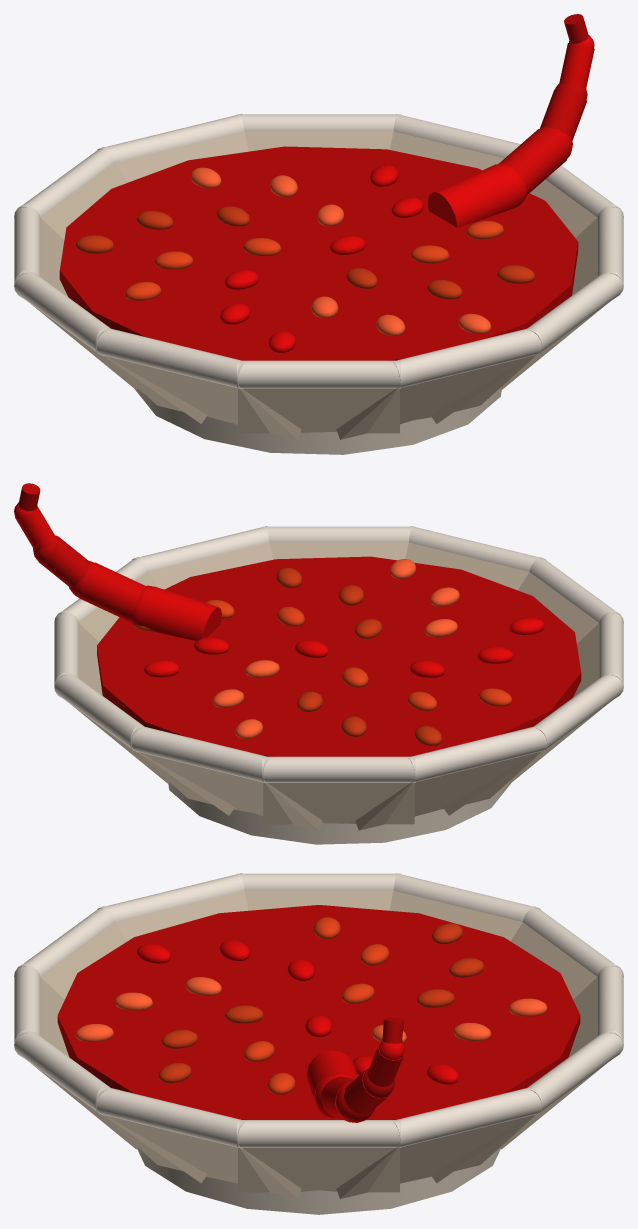
File: CMU3DFoodSoupChiliHotCloud.glb
3 renders of one model, top to bottom at view 1: azimuth 30°, elevation 25°; view 2: azimuth 150°, elevation 25°; view 3: azimuth 270°, elevation 25°, orthographic. The views are drawn at different scales.
Visible parts, largest first — view 1: hot chili liquid surface, closed ceramic basin floor, flared hollow ceramic wall 09, rolled ceramic rim 09, flared hollow ceramic wall 08, flared hollow ceramic wall 10, rolled ceramic rim 08, rolled ceramic rim 10, curved red chili pepper 1, rolled ceramic rim 07, rolled ceramic rim 11, rolled ceramic rim 03 (+18 smaller); view 2: hot chili liquid surface, closed ceramic basin floor, flared hollow ceramic wall 05, rolled ceramic rim 05, flared hollow ceramic wall 06, flared hollow ceramic wall 04, rolled ceramic rim 04, rolled ceramic rim 06, curved red chili pepper 1, rolled ceramic rim 03, rolled ceramic rim 07, rolled ceramic rim 11 (+25 smaller); view 3: hot chili liquid surface, closed ceramic basin floor, flared hollow ceramic wall 01, flared hollow ceramic wall 02, flared hollow ceramic wall 12, rolled ceramic rim 01, rolled ceramic rim 02, rolled ceramic rim 12, rolled ceramic rim 03, rolled ceramic rim 11, rolled ceramic rim 07, flared hollow ceramic wall 07 (+41 smaller).
Part boxes in pixels (<box>): hot chili liquid surface: <box>59,146,578,360</box>; closed ceramic basin floor: <box>134,388,501,454</box>; flared hollow ceramic wall 09: <box>238,388,399,433</box>; rolled ceramic rim 09: <box>237,360,400,388</box>; flared hollow ceramic wall 08: <box>102,355,301,439</box>; flared hollow ceramic wall 10: <box>336,355,535,439</box>; rolled ceramic rim 08: <box>95,328,244,389</box>; rolled ceramic rim 10: <box>393,328,542,389</box>; curved red chili pepper 1: <box>428,164,518,227</box>; rolled ceramic rim 07: <box>14,270,110,355</box>; rolled ceramic rim 11: <box>527,270,623,355</box>; rolled ceramic rim 03: <box>237,114,400,131</box>; hot chili liquid surface: <box>97,556,581,756</box>; closed ceramic basin floor: <box>168,782,510,844</box>; flared hollow ceramic wall 05: <box>263,783,414,824</box>; rolled ceramic rim 05: <box>262,756,415,782</box>; flared hollow ceramic wall 06: <box>355,752,541,830</box>; flared hollow ceramic wall 04: <box>137,752,322,830</box>; rolled ceramic rim 04: <box>130,726,269,783</box>; rolled ceramic rim 06: <box>408,726,547,783</box>; curved red chili pepper 1: <box>138,586,221,640</box>; rolled ceramic rim 03: <box>54,672,144,752</box>; rolled ceramic rim 07: <box>534,672,623,752</box>; rolled ceramic rim 11: <box>262,526,415,542</box>; hot chili liquid surface: <box>57,905,580,1119</box>; closed ceramic basin floor: <box>137,1148,500,1214</box>; flared hollow ceramic wall 01: <box>238,1148,399,1192</box>; flared hollow ceramic wall 02: <box>336,1115,535,1199</box>; flared hollow ceramic wall 12: <box>102,1115,301,1199</box>; rolled ceramic rim 01: <box>237,1120,400,1147</box>; rolled ceramic rim 02: <box>393,1087,542,1148</box>; rolled ceramic rim 12: <box>95,1087,244,1148</box>; rolled ceramic rim 03: <box>527,1029,623,1115</box>; rolled ceramic rim 11: <box>14,1029,110,1115</box>; rolled ceramic rim 07: <box>237,873,400,890</box>; flared hollow ceramic wall 07: <box>244,890,393,910</box>.
Size of the model in its own units: 0.7963 by 0.3631 by 0.7325.
